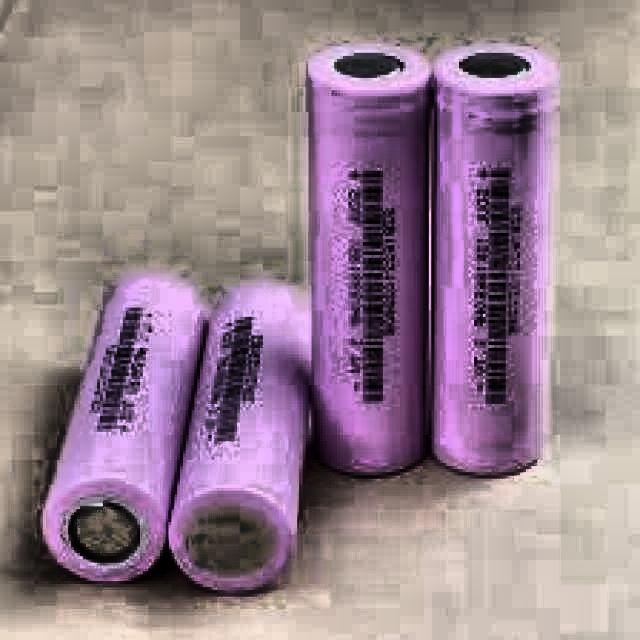Non-Valuable Waste - Batteries: (305, 40, 434, 477), (431, 40, 554, 477), (43, 273, 209, 582), (167, 280, 309, 595)
